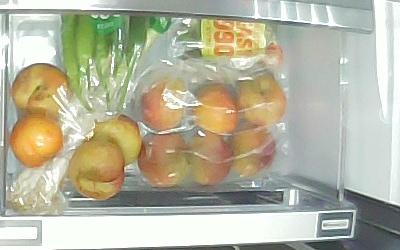prune: (69, 138, 125, 199), (12, 63, 69, 119), (9, 115, 64, 166), (91, 113, 141, 165)
prune_vinyl: (137, 130, 187, 186), (237, 73, 287, 126), (139, 78, 187, 132), (232, 124, 277, 177), (190, 83, 237, 133), (189, 133, 232, 185)
